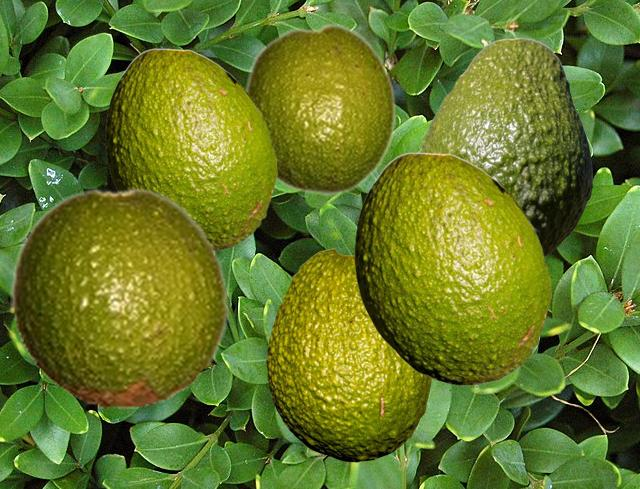avocado: (10, 187, 230, 409), (354, 152, 550, 384), (419, 37, 591, 256), (266, 248, 430, 461), (105, 48, 276, 251), (243, 22, 396, 196)
